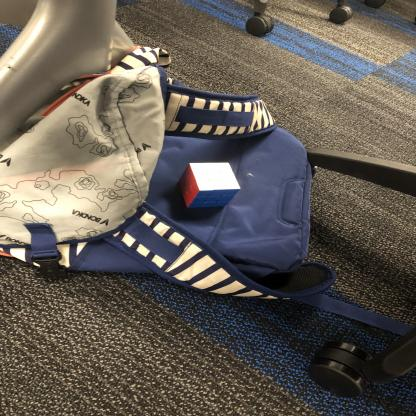SolvedCube: (175, 155, 243, 212)
